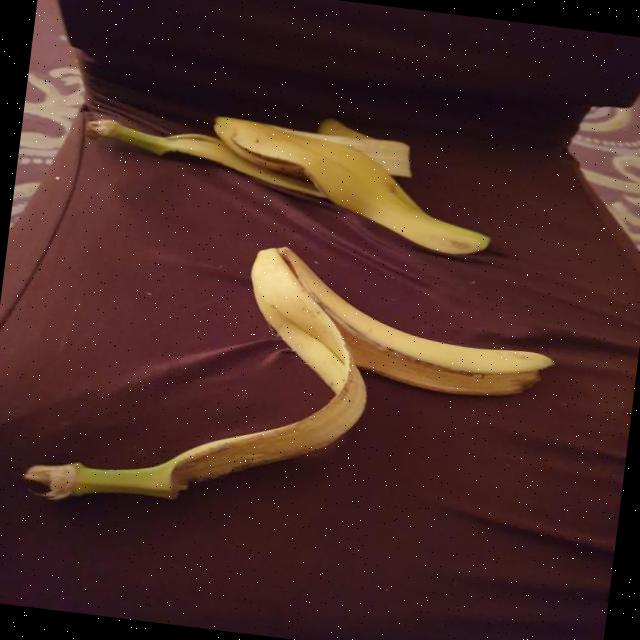banana-peel: (19, 218, 384, 536), (74, 93, 502, 261), (258, 243, 564, 407)
